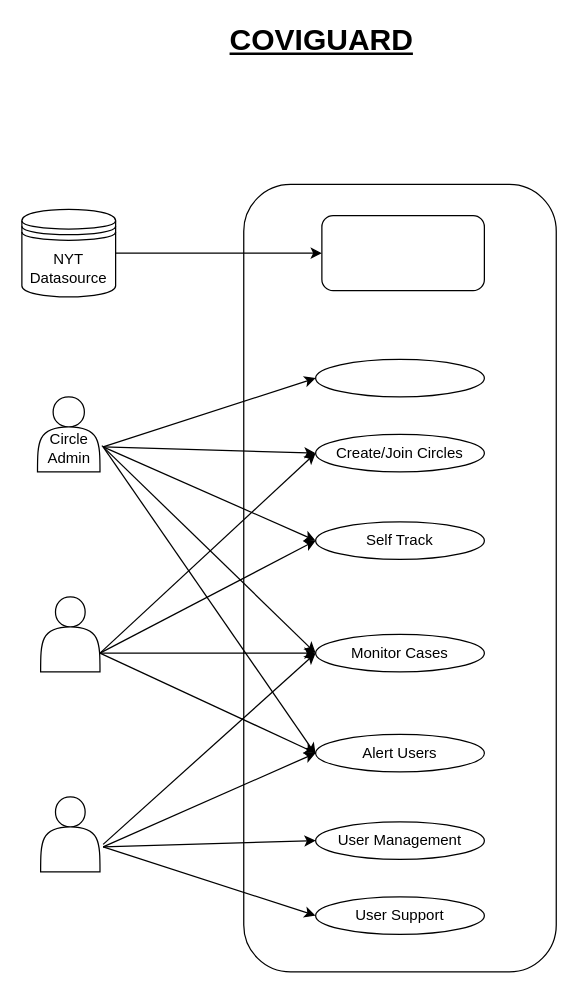
Image size: 579x994. Some labels were removed from this diagram. The shapes that lost their labels are listed below. From the top down, each one's centre as x and y in pixels, then its label:
At point 402,252: "Real Time Data Update".
At point 399,377: "Attaching Policies".
At point 69,634: "User".
At point 69,834: "Admin".
